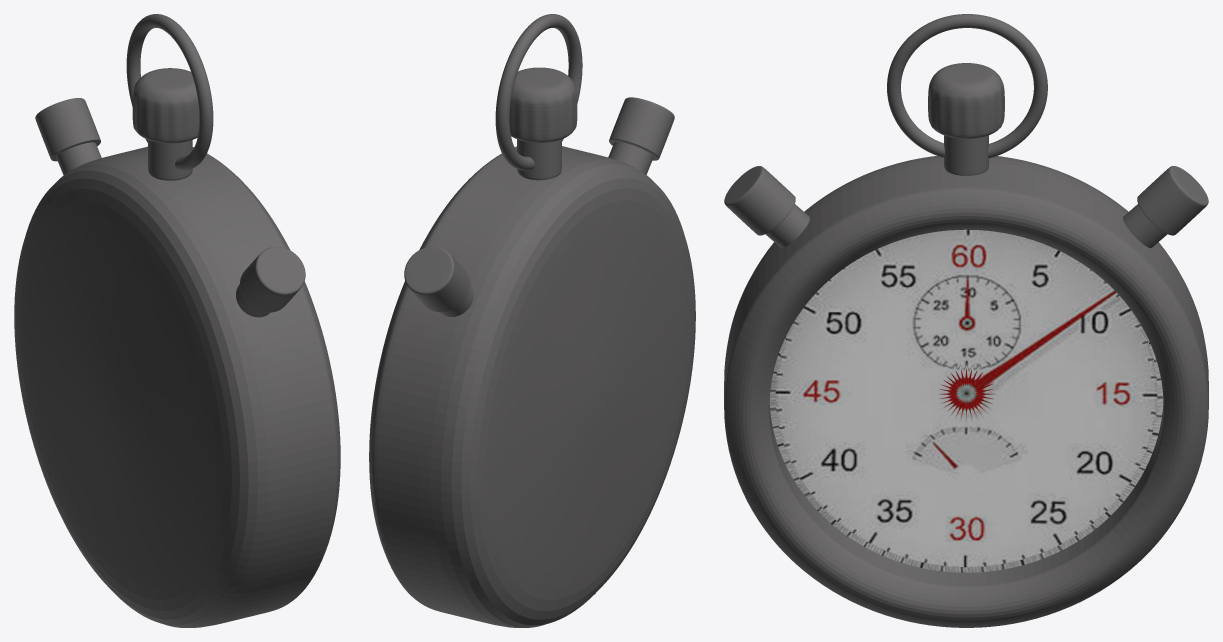
File: stop watch.fbx
3 views of the same model, side by side, from view 1: azimuth 30°, elevation 25°; view 2: azimuth 150°, elevation 25°; view 3: azimuth 270°, elevation 25° (orthographic).
Parts seen in each view (by area): view 1: Cylinder; view 2: Cylinder; view 3: Cylinder.
Part boxes in pixels (bbox=[...]): Cylinder: bbox=[14, 14, 340, 627]; Cylinder: bbox=[369, 14, 695, 627]; Cylinder: bbox=[724, 14, 1208, 627].
Size of the model in its own units: 185 by 885 by 658.
1 material, 1 textured.
